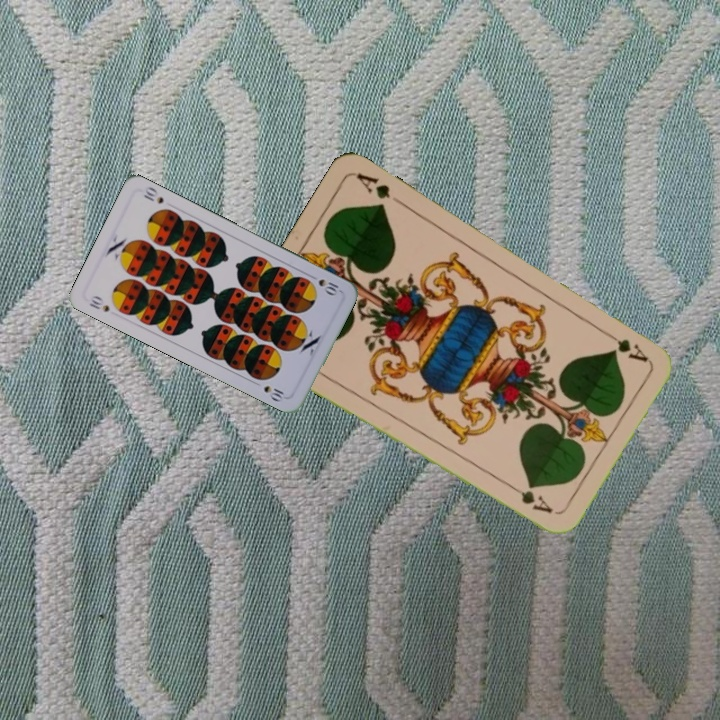GA: (598, 326, 651, 365)
S10: (305, 270, 343, 298), (85, 291, 112, 315)
